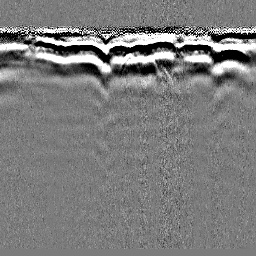cavity: (116, 52, 142, 79)
